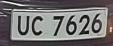2: (78, 13, 91, 37)
6: (65, 14, 79, 37), (90, 12, 103, 36)
7: (50, 14, 66, 38)
C: (30, 14, 47, 39)
U: (16, 13, 31, 39)
